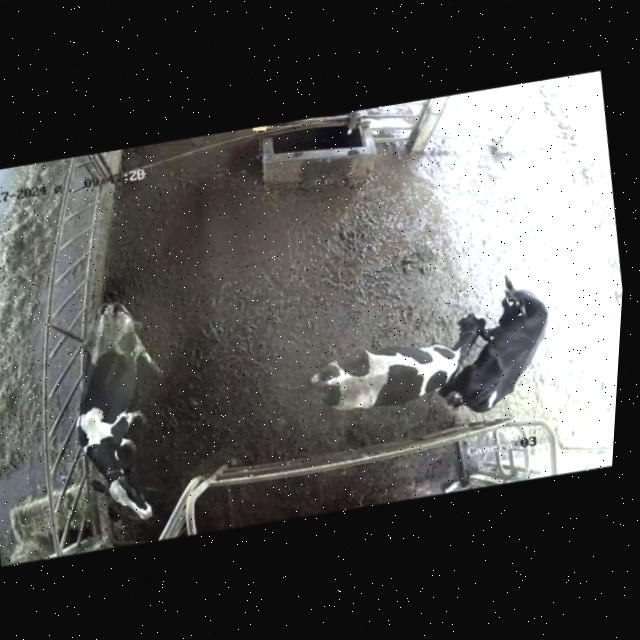stand: (38, 285, 188, 539), (425, 242, 593, 420), (287, 294, 497, 432)
